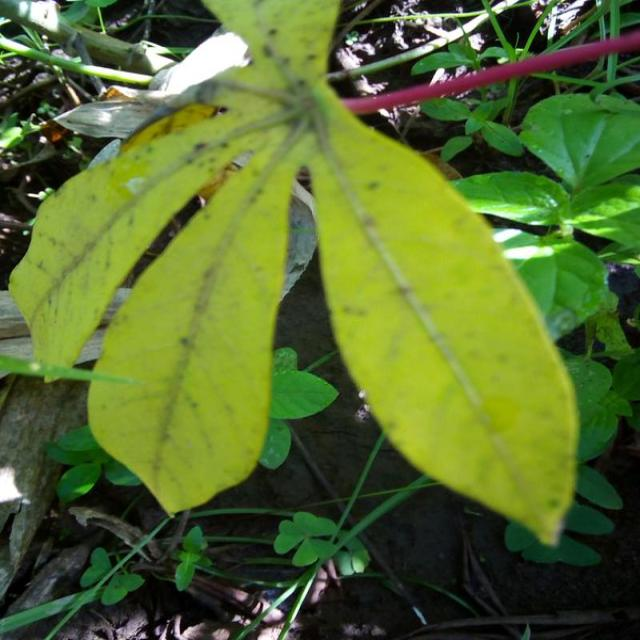cassava leaf: (7, 0, 582, 548)
